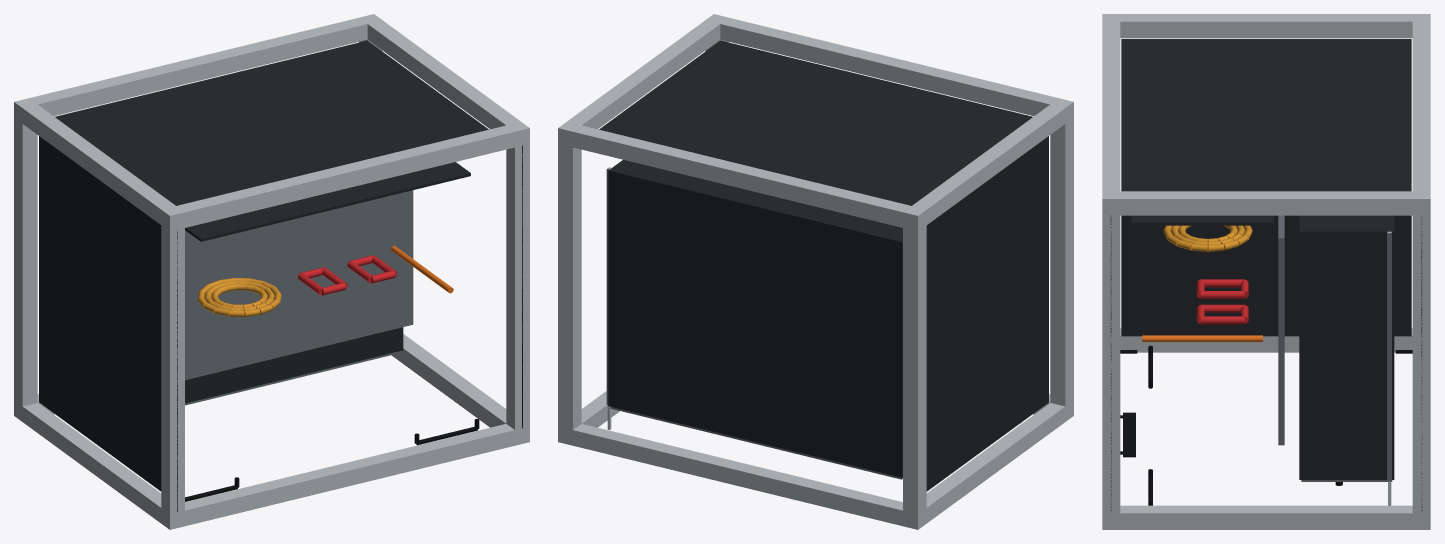
3 views of the same model, side by side, from view 1: azimuth 30°, elevation 25°; view 2: azimuth 150°, elevation 25°; view 3: azimuth 270°, elevation 25° (orthographic). The views are drawn at different scales.
Parts seen in each view (by area): view 1: BACK_INFILL_PANEL, LEFT_INFILL_PANEL, UPPER_ADJUSTABLE_SHELF, FRAME_WIDTH_RAIL_08, FRAME_WIDTH_RAIL_06, FRAME_WIDTH_RAIL_07, FRAME_DEPTH_RAIL_10, FRAME_DEPTH_RAIL_09, FRAME_DEPTH_RAIL_12, SEALED_TOOL_DRAWER_CASE, FRAME_POST_02, MOLLE_PANEL (+3 smaller); view 2: SEALED_TOOL_DRAWER_CASE, BACK_INFILL_PANEL, LEFT_INFILL_PANEL, FRAME_WIDTH_RAIL_07, FRAME_WIDTH_RAIL_05, FRAME_WIDTH_RAIL_08, FRAME_DEPTH_RAIL_09, FRAME_DEPTH_RAIL_11, FRAME_DEPTH_RAIL_10, FRAME_POST_02, FRAME_POST_01, FRAME_POST_04 (+3 smaller); view 3: BACK_INFILL_PANEL, SEALED_TOOL_DRAWER_CASE, LEFT_INFILL_PANEL, FRAME_POST_04, FRAME_POST_03, FRAME_POST_02, FRAME_DEPTH_RAIL_11, FRAME_DEPTH_RAIL_12, FRAME_WIDTH_RAIL_07, FRAME_WIDTH_RAIL_08, FRAME_POST_01, UPPER_ADJUSTABLE_SHELF (+5 smaller).
Part boxes in pixels (box(x1,y1,x2,y2)): BACK_INFILL_PANEL: box(55, 40, 488, 205); LEFT_INFILL_PANEL: box(39, 136, 161, 491); UPPER_ADJUSTABLE_SHELF: box(185, 190, 413, 380); FRAME_WIDTH_RAIL_08: box(177, 125, 514, 227); FRAME_WIDTH_RAIL_06: box(185, 424, 514, 526); FRAME_WIDTH_RAIL_07: box(29, 17, 367, 115); FRAME_DEPTH_RAIL_10: box(161, 225, 184, 513); FRAME_DEPTH_RAIL_09: box(14, 118, 37, 406); FRAME_DEPTH_RAIL_12: box(506, 144, 529, 429); SEALED_TOOL_DRAWER_CASE: box(185, 327, 403, 403); FRAME_POST_02: box(14, 98, 184, 231); MOLLE_PANEL: box(185, 162, 470, 241); SEALED_TOOL_DRAWER_CASE: box(608, 159, 902, 477); BACK_INFILL_PANEL: box(599, 40, 1032, 205); LEFT_INFILL_PANEL: box(926, 136, 1048, 491); FRAME_WIDTH_RAIL_07: box(573, 125, 910, 227); FRAME_WIDTH_RAIL_05: box(573, 424, 902, 526); FRAME_WIDTH_RAIL_08: box(720, 17, 1058, 115); FRAME_DEPTH_RAIL_09: box(903, 225, 926, 513); FRAME_DEPTH_RAIL_11: box(558, 144, 581, 429); FRAME_DEPTH_RAIL_10: box(1050, 118, 1073, 406); FRAME_POST_02: box(903, 98, 1073, 231); FRAME_POST_01: box(903, 400, 1073, 529); FRAME_POST_04: box(558, 14, 728, 147); BACK_INFILL_PANEL: box(1121, 39, 1411, 191); SEALED_TOOL_DRAWER_CASE: box(1299, 215, 1394, 479); LEFT_INFILL_PANEL: box(1121, 215, 1411, 336); FRAME_POST_04: box(1102, 191, 1430, 215); FRAME_POST_03: box(1102, 505, 1430, 529); FRAME_POST_02: box(1102, 14, 1430, 38); FRAME_DEPTH_RAIL_11: box(1412, 215, 1430, 513); FRAME_DEPTH_RAIL_12: box(1102, 215, 1120, 513); FRAME_WIDTH_RAIL_07: box(1412, 21, 1430, 191); FRAME_WIDTH_RAIL_08: box(1102, 21, 1120, 191); FRAME_POST_01: box(1120, 328, 1412, 352); UPPER_ADJUSTABLE_SHELF: box(1278, 215, 1284, 445).
Size of the model in its own units: 60.96 by 50.8 by 45.72.
